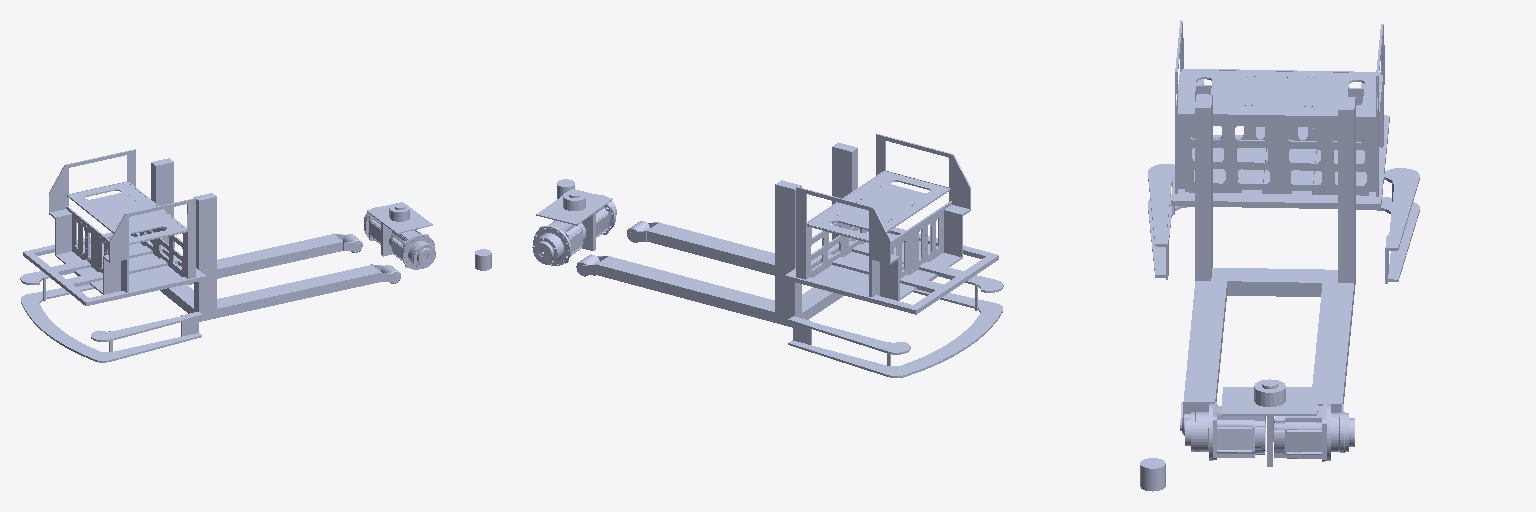
URDF robot description (pallet_bot):
<?xml version="1.0" encoding="utf-8"?>
<!-- This URDF was automatically created by SolidWorks to URDF Exporter! Originally created by [author] ([email redacted]) 
     Commit Version: 1.6.0-4-g7f85cfe  Build Version: 1.6.7995.38578
     For more information, please see http://wiki.ros.org/sw_urdf_exporter -->
<robot
  name="pallet_bot">
  <link
    name="base_footprint">
    <inertial>
      <origin
        xyz="-2.77555756156289E-17 -4.85722573273506E-17 0.015"
        rpy="0 0 0" />
      <mass
        value="9.42477796076937E-05" />
      <inertia
        ixx="7.09214541547894E-09"
        ixy="9.26645868719011E-57"
        ixz="-2.73196242009684E-42"
        iyy="7.09214541547894E-09"
        iyz="2.45339658056805E-23"
        izz="4.71238898038469E-11" />
    </inertial>
    <visual>
      <origin
        xyz="0 0 0"
        rpy="0 0 0" />
      <geometry>
        <mesh
          filename="package://pallet_bot/meshes/base_footprint.STL" />
      </geometry>
      <material
        name="">
        <color
          rgba="0.792156862745098 0.819607843137255 0.933333333333333 1" />
      </material>
    </visual>
    <collision>
      <origin
        xyz="0 0 0"
        rpy="0 0 0" />
      <geometry>
        <mesh
          filename="package://pallet_bot/meshes/base_footprint.STL" />
      </geometry>
    </collision>
  </link>

  <link
    name="base_link">
    <inertial>
      <origin
        xyz="-2.0153E-05 2.0331E-07 -0.081114"
        rpy="0 0 0" />
      <mass
        value="20" />
      <inertia
        ixx="0.015178"
        ixy="5.0686E-05"
        ixz="4.7124E-06"
        iyy="0.020004"
        iyz="-3.1114E-05"
        izz="0.013371" />
    </inertial>
    <visual>
      <origin
        xyz="0 0 0"
        rpy="0 0 0" />
      <geometry>
        <mesh
          filename="package://pallet_bot/meshes/base_link.STL" />
      </geometry>
      <material
        name="">
        <color
          rgba="0.79216 0.81961 0.93333 1" />
      </material>
    </visual>
    <collision>
      <origin
        xyz="0 0 0"
        rpy="0 0 0" />
      <geometry>
        <mesh
          filename="package://pallet_bot/meshes/base_link.STL" />
      </geometry>
    </collision>
  </link>

  <joint
    name="base_joint"
    type="fixed">
    <origin
      xyz="0 0 0.204"
      rpy="0 0 0" />
    <parent
      link="base_footprint" />
    <child
      link="base_link" />
    <axis
      xyz="0 0 0" />
  </joint>


  <link
    name="l_wheel_link">
    <inertial>
      <origin
        xyz="5.4872E-09 -0.00030104 -0.029665"
        rpy="0 0 0" />
      <mass
        value="1.2164" />
      <inertia
        ixx="0.004444"
        ixy="1.3003E-06"
        ixz="-1.3225E-08"
        iyy="0.0044426"
        iyz="3.8389E-05"
        izz="0.0082254" />
    </inertial>
    <visual>
      <origin
        xyz="0 0 0"
        rpy="0 0 0" />
      <geometry>
        <mesh
          filename="package://pallet_bot/meshes/l_wheel_link.STL" />
      </geometry>
      <material
        name="">
        <color
          rgba="0.79216 0.81961 0.93333 1" />
      </material>
    </visual>
    <collision>
      <origin
        xyz="0 0 0"
        rpy="0 0 0" />
      <geometry>
        <mesh
          filename="package://pallet_bot/meshes/l_wheel_link.STL" />
      </geometry>
    </collision>
  </link>

  <joint
    name="l_wheel_joint"
    type="continuous">
    <origin
      xyz="0.00279037445358102 0.274985842927247 -0.104"
      rpy="1.5707963267949 -1.5707963267949 0" />
    <parent
      link="base_link" />
    <child
      link="l_wheel_link" />
    <axis
      xyz="0 0.0101468161948486 0.999948519735445" />
  </joint>



  <link
    name="r_wheel_link">
    <inertial>
      <origin
        xyz="1.6511E-08 -0.00030101 -0.029665"
        rpy="0 0 0" />
      <mass
        value="1.2164" />
      <inertia
        ixx="0.0044446"
        ixy="-4.9253E-07"
        ixz="4.9233E-09"
        iyy="0.004442"
        iyz="3.8395E-05"
        izz="0.0082254" />
    </inertial>
    <visual>
      <origin
        xyz="0 0 0"
        rpy="0 0 0" />
      <geometry>
        <mesh
          filename="package://pallet_bot/meshes/r_wheel_link.STL" />
      </geometry>
      <material
        name="">
        <color
          rgba="0.79216 0.81961 0.93333 1" />
      </material>
    </visual>
    <collision>
      <origin
        xyz="0 0 0"
        rpy="0 0 0" />
      <geometry>
        <mesh
          filename="package://pallet_bot/meshes/r_wheel_link.STL" />
      </geometry>
    </collision>
  </link>


  <joint
    name="r_wheel_joint"
    type="continuous">
    <origin
      xyz="-0.0027903744535811 -0.274985842927247 -0.104"
      rpy="1.57079632679489 -1.5707963267949 0" />
    <parent
      link="base_link" />
    <child
      link="r_wheel_link" />
    <axis
      xyz="0 0.010146816194848 0.999948519735445" />
  </joint>



  <link
    name="l_laser_link">
    <inertial>
      <origin
        xyz="0 1.6653E-16 -0.0395"
        rpy="0 0 0" />
      <mass
        value="0.3971" />
      <inertia
        ixx="0.00036536"
        ixy="2.0799E-51"
        ixz="-1.2125E-36"
        iyy="0.00036536"
        iyz="1.5383E-19"
        izz="0.00031768" />
    </inertial>
    <visual>
      <origin
        xyz="0 0 0"
        rpy="0 0 0" />
      <geometry>
        <mesh
          filename="package://pallet_bot/meshes/l_laser_link.STL" />
      </geometry>
      <material
        name="">
        <color
          rgba="0.79216 0.81961 0.93333 1" />
      </material>
    </visual>
    <collision>
      <origin
        xyz="0 0 0"
        rpy="0 0 0" />
      <geometry>
        <mesh
          filename="package://pallet_bot/meshes/l_laser_link.STL" />
      </geometry>
    </collision>
  </link>
  <joint
    name="l_laser_joint"
    type="fixed">
    <origin
      xyz="0.255 0.368323028564001 -0.0929999999999988"
      rpy="0 0 0" />
    <parent
      link="base_link" />
    <child
      link="l_laser_link" />
    <axis
      xyz="0 0 0" />
  </joint>


  <link
    name="r_laser_link">
    <inertial>
      <origin
        xyz="0 1.6653E-16 -0.0395"
        rpy="0 0 0" />
      <mass
        value="0.3971" />
      <inertia
        ixx="0.00036536"
        ixy="2.0799E-51"
        ixz="-1.2125E-36"
        iyy="0.00036536"
        iyz="1.5383E-19"
        izz="0.00031768" />
    </inertial>
    <visual>
      <origin
        xyz="0 0 0"
        rpy="0 0 0" />
      <geometry>
        <mesh
          filename="package://pallet_bot/meshes/r_laser_link.STL" />
      </geometry>
      <material
        name="">
        <color
          rgba="0.79216 0.81961 0.93333 1" />
      </material>
    </visual>
    <collision>
      <origin
        xyz="0 0 0"
        rpy="0 0 0" />
      <geometry>
        <mesh
          filename="package://pallet_bot/meshes/r_laser_link.STL" />
      </geometry>
    </collision>
  </link>

  <joint
    name="r_laser_joint"
    type="fixed">
    <origin
      xyz="0.255000000000001 -0.368323028563999 -0.0930000000000014"
      rpy="0 0 0" />
    <parent
      link="base_link" />
    <child
      link="r_laser_link" />
    <axis
      xyz="0 0 0" />
  </joint>


  
  <link
    name="fork_link">
    <inertial>
      <origin
        xyz="0.35746 0.00015734 0.13709"
        rpy="0 0 0" />
      <mass
        value="100" />
      <inertia
        ixx="2.0452"
        ixy="0.00031975"
        ixz="-0.74152"
        iyy="3.9922"
        iyz="0.00011605"
        izz="4.5718" />
    </inertial>
    <visual>
      <origin
        xyz="0 0 0"
        rpy="0 0 0" />
      <geometry>
        <mesh
          filename="package://pallet_bot/meshes/fork_link.STL" />
      </geometry>
      <material
        name="">
        <color
          rgba="0.79216 0.81961 0.93333 1" />
      </material>
    </visual>
    <collision>
      <origin
        xyz="0 0 0"
        rpy="0 0 0" />
      <geometry>
        <mesh
          filename="package://pallet_bot/meshes/fork_link.STL" />
      </geometry>
    </collision>
  </link>

  <joint
    name="fork_joint"
    type="revolute">
    <origin
      xyz="-0.78909 0 -0.1182"
      rpy="0 0 0" />
    <parent
      link="base_link" />
    <child
      link="fork_link" />
    <axis
      xyz="0 0 1" />
    <limit
      lower="4.7"
      upper="1.5"
      effort="150"
      velocity="0.1" />
  </joint>
</robot>

--- What the picture shows (computed from the rendered views, not written in the file) ---
The picture shows the robot from 3 angles, left to right: view 1: azimuth 30°, elevation 25°; view 2: azimuth 150°, elevation 25°; view 3: azimuth 270°, elevation 25°; orthographic projection.
Robot: pallet_bot — 7 links, 6 joints (1 revolute, 2 continuous, 3 fixed); root link base_footprint; default pose: all joints at 0 but 1 set to mid-range because 0 is outside their limits (fork_joint = 3.1).
Links seen in each view (by area): view 1: fork_link, base_link; view 2: fork_link, base_link; view 3: fork_link, base_link, r_laser_link.
Boxes of the visible links, left/top/right/bottom form: fork_link: left=20, top=149, right=400, bottom=362; base_link: left=364, top=202, right=435, bottom=269; fork_link: left=576, top=134, right=1003, bottom=377; base_link: left=532, top=189, right=616, bottom=265; fork_link: left=1148, top=20, right=1419, bottom=435; base_link: left=1185, top=379, right=1354, bottom=466; r_laser_link: left=1140, top=458, right=1165, bottom=491.
Bounding box of the posed robot: 2.25 × 0.8793 × 0.737 m (x, y, z).
4 mesh visuals loaded from 7 distinct referenced files (4 binary STL); not drawn: 3 (reference not matched to a file when rendering).